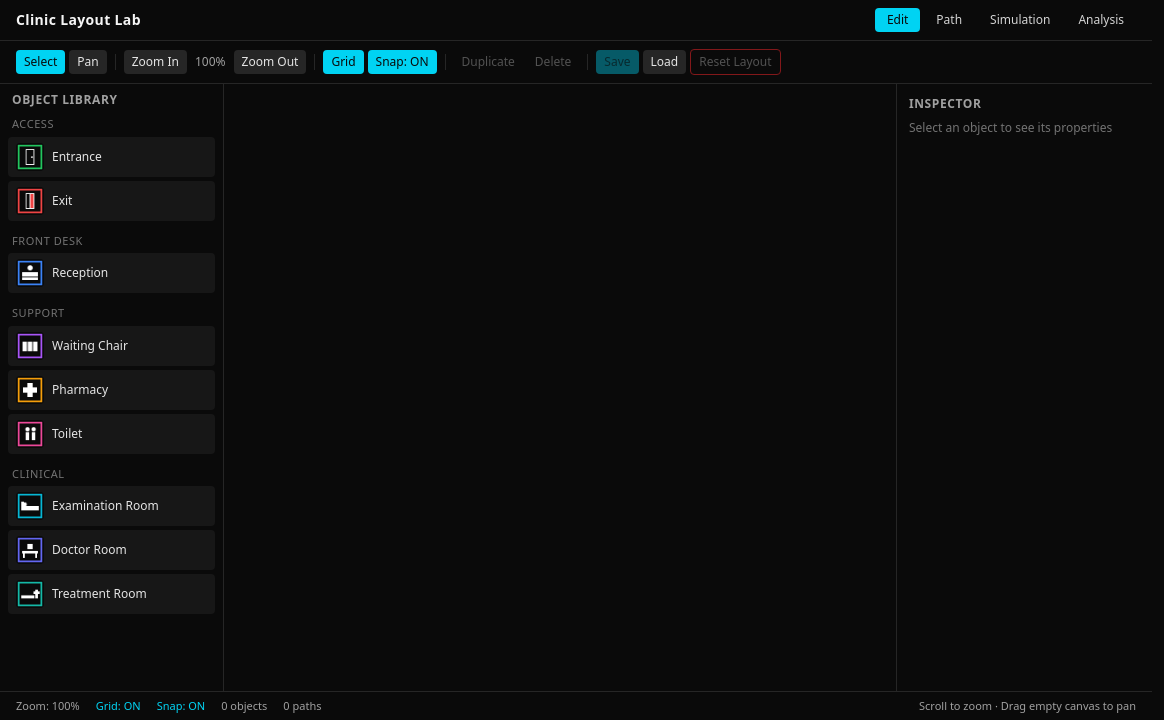
Test: EditorApp (Phase 1 UI) › adds an object from the library and auto-selects it (AC-002)
The width and height of the screenshot is (1164, 720).
Click the button "Reception".
click(112, 273)  # box [8,253,215,293]
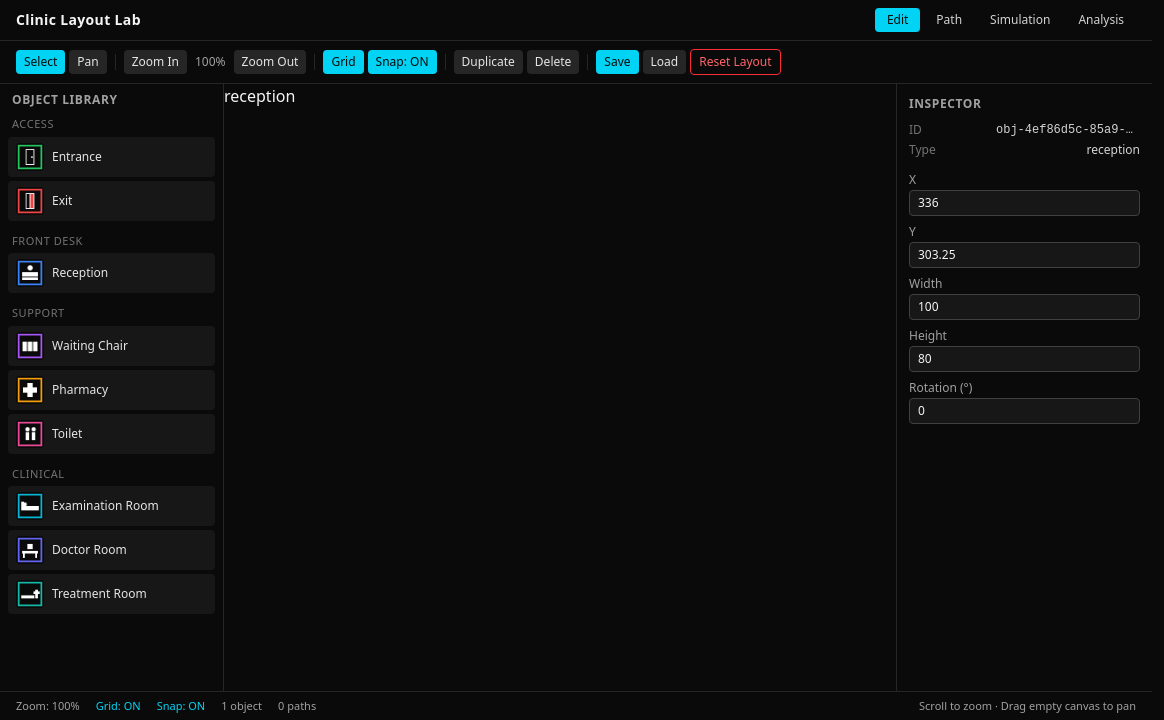
Expected: the text "1 object" is shown, [221,698,262,714]
Expected: the text "reception" next to "Type" is shown, [1086,141,1140,158]
Expected: the text "reception" is shown 2 times, [224,85,295,107]; [1086,142,1140,158]
